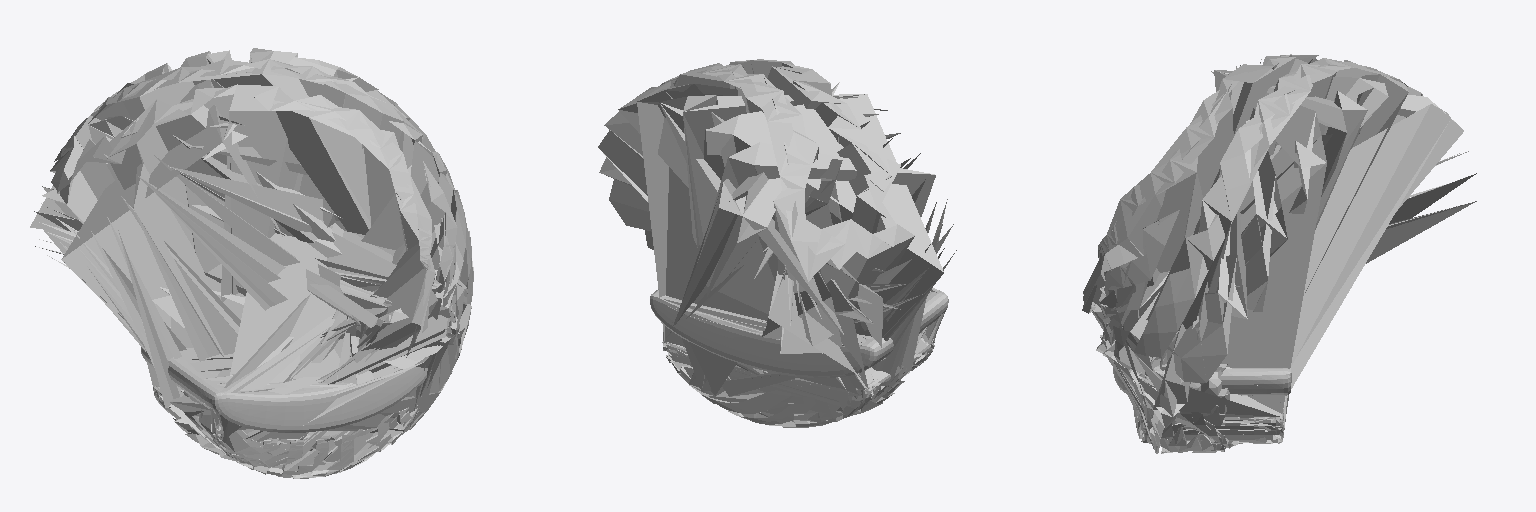
Rendered from very happy.obj.
3 renders of one model, left to right at view 1: azimuth 30°, elevation 25°; view 2: azimuth 150°, elevation 25°; view 3: azimuth 270°, elevation 25°, orthographic.
Parts seen in each view (by area): view 1: Group19895, Group42320, Group24642; view 2: Group19895, Group42320, Group24642; view 3: Group19895, Group42320.
Boxes of the visible parts, box(x1,y1,x2,y2) form: Group19895: box(30, 48, 473, 478); Group42320: box(141, 347, 427, 432); Group24642: box(142, 348, 431, 467); Group19895: box(598, 59, 956, 427); Group42320: box(650, 289, 948, 377); Group24642: box(655, 291, 946, 396); Group19895: box(1082, 54, 1476, 453); Group42320: box(1113, 368, 1291, 394).
Bounding box in the file's own units: 19.83 × 18.5 × 18.32.